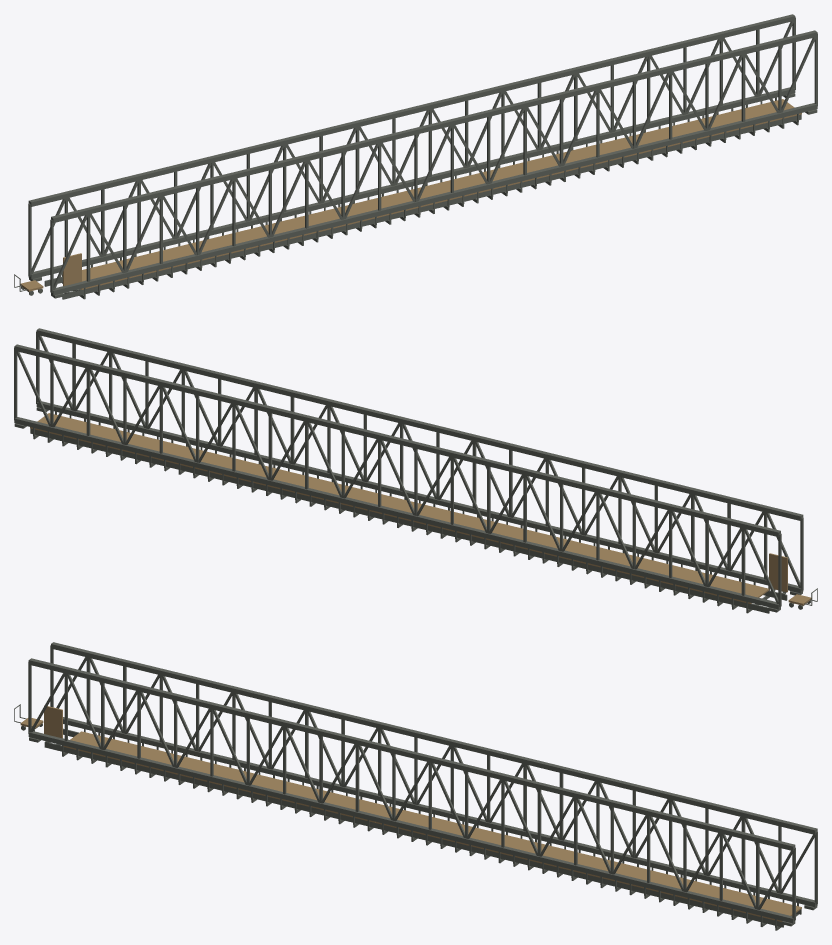
File: first-floor-bridge.glb
3 views of the same model, one above another, from view 1: azimuth 30°, elevation 25°; view 2: azimuth 150°, elevation 25°; view 3: azimuth 330°, elevation 25° (orthographic).
Parts seen in each view (by area): view 1: bridge-iron.005, bridge-timber.005; view 2: bridge-iron.005, bridge-timber.005; view 3: bridge-iron.005, bridge-timber.005.
Boxes of the visible parts, x1,y1,x2,y2 form: bridge-iron.005: (28,14,817,299); bridge-timber.005: (62,99,801,289); bridge-iron.005: (14,328,803,613); bridge-timber.005: (30,413,769,603); bridge-iron.005: (28,642,817,930); bridge-timber.005: (63,731,801,921).
Size of the model in its own units: 43.37 by 4.7 by 2.5.
